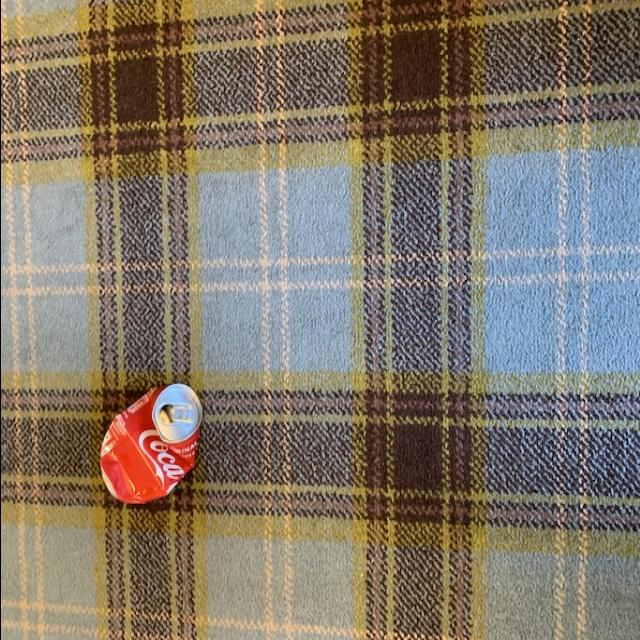litter: (100, 376, 206, 512)
